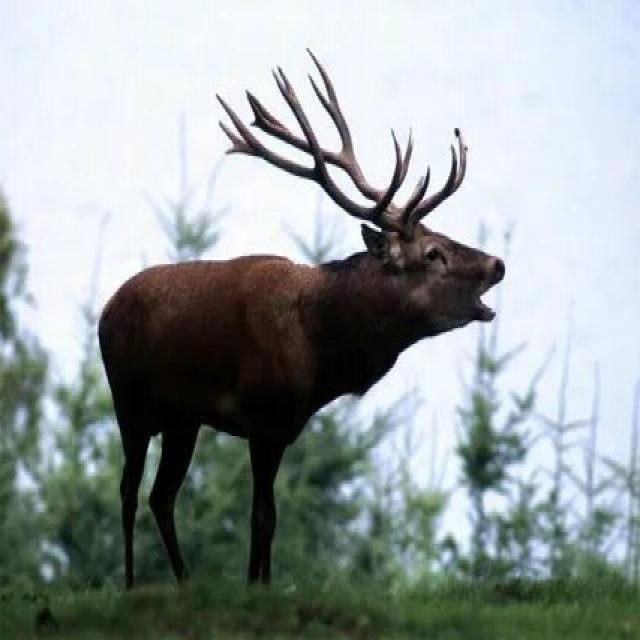deer: (32, 41, 488, 580)
